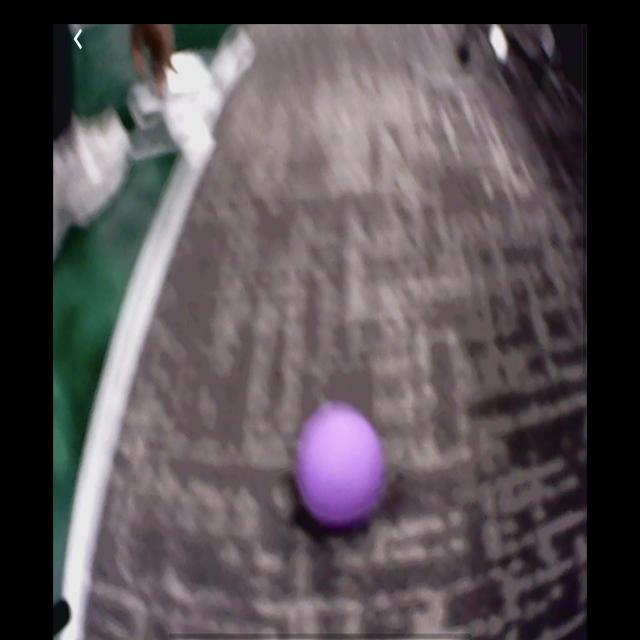ball: (297, 406, 380, 521)
